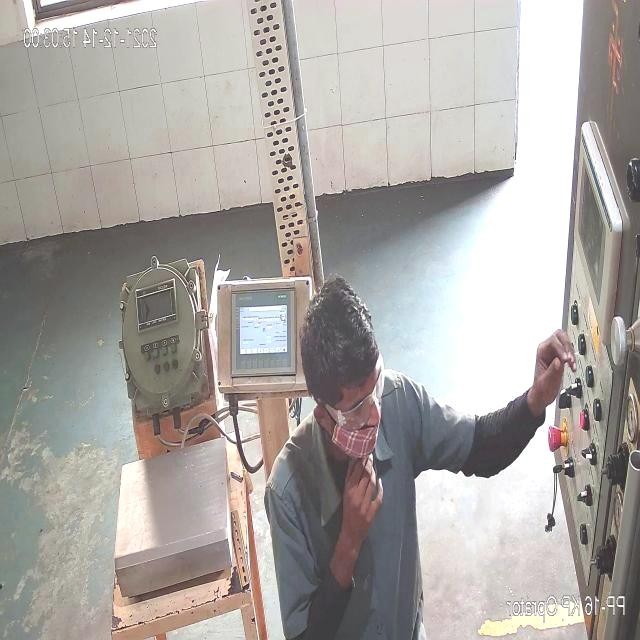face_mask: (319, 370, 392, 458)
glasses: (325, 355, 387, 432)
hand_noglove: (526, 327, 582, 416), (336, 450, 392, 531)
head_nohelmet: (290, 274, 386, 399)
person: (256, 273, 461, 640)
